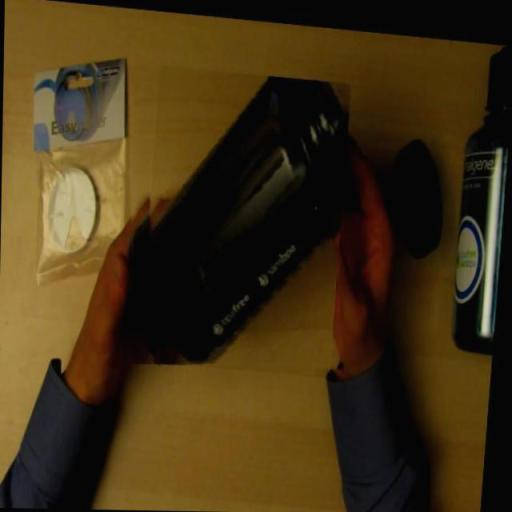bottle: (147, 70, 350, 364)
